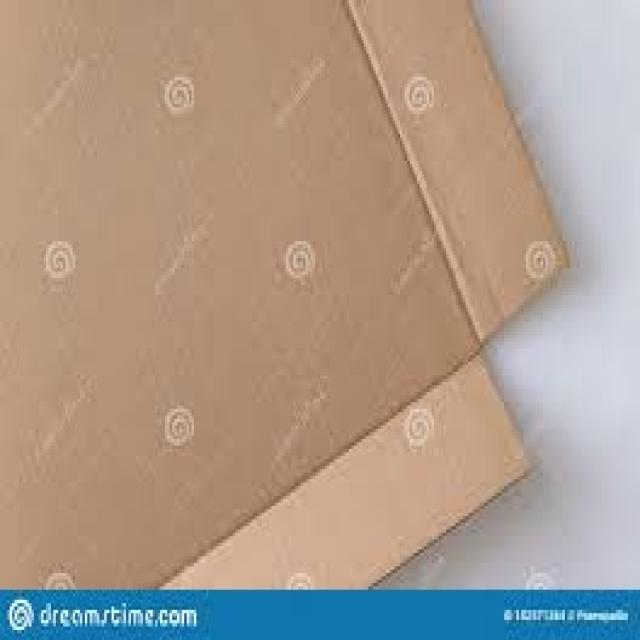cardboard: (0, 0, 567, 583)
